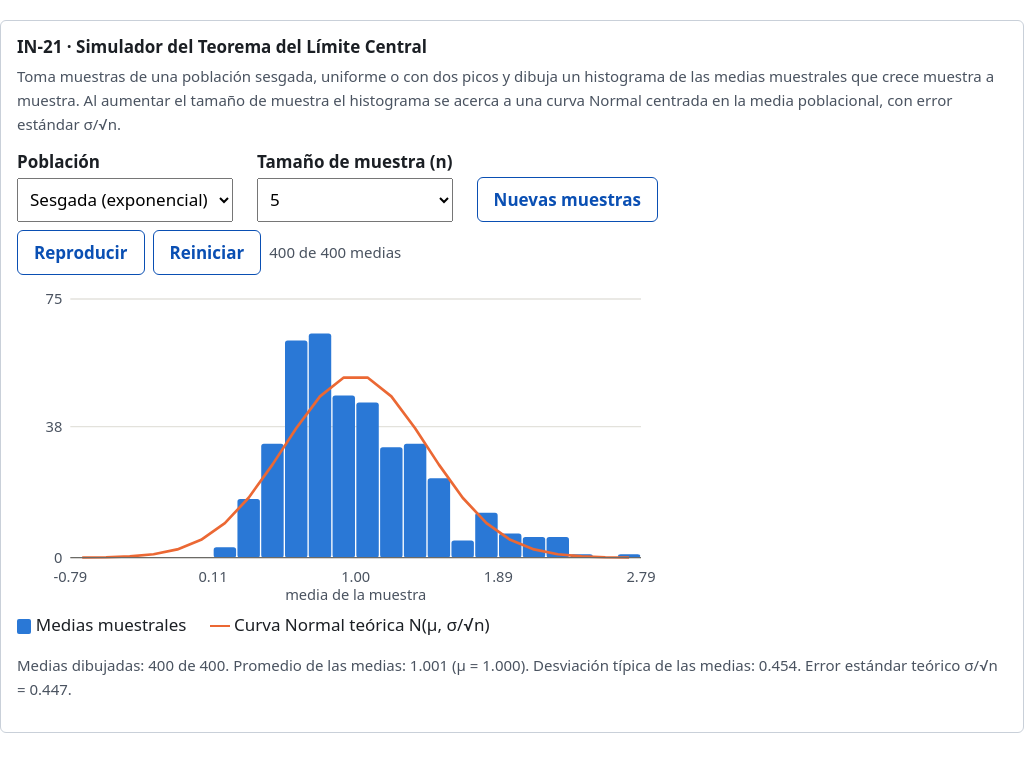
Scenario: IN-21 Teorema del Límite Central › reiniciar vacía el gráfico; reproducir lo va llenando de a 10 medias
The width and height of the screenshot is (1024, 768).
Click the button "Reiniciar" at (207, 252), box top-left (152, 230), bottom-right (261, 275)
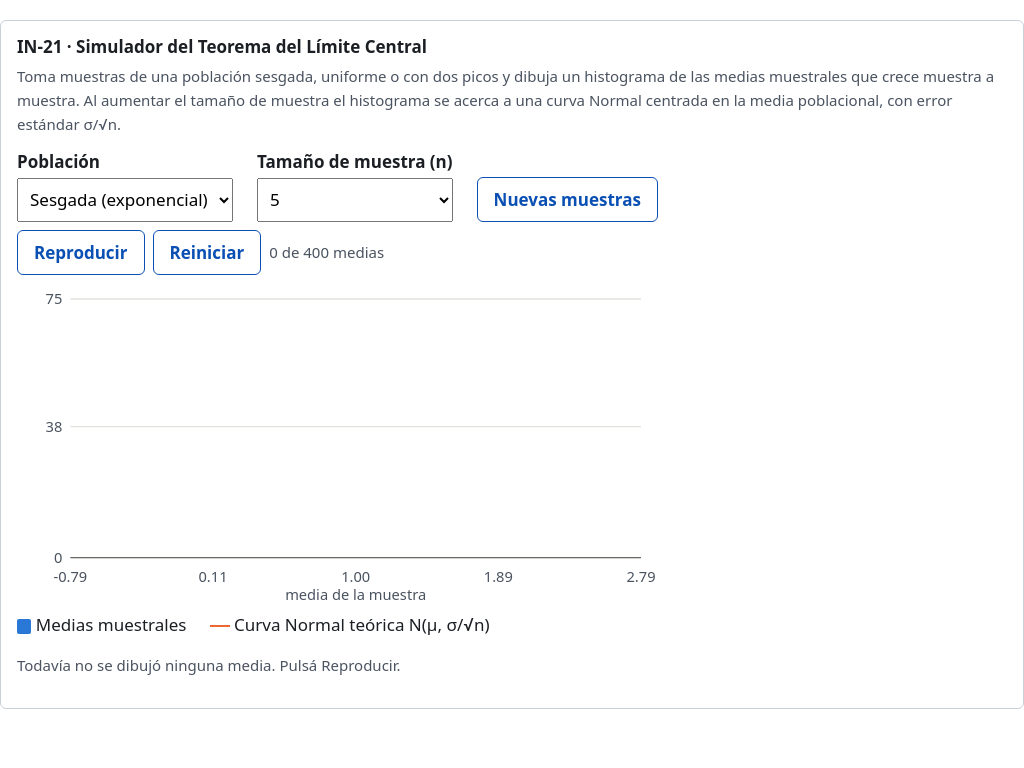
Result: the text with class "clt__summary" shows "Todavía no se dibujó ninguna media" at top-left (17, 655), bottom-right (400, 675)
Click the button "Reproducir" at (81, 252), box top-left (17, 230), bottom-right (144, 275)
Wait 450 ms
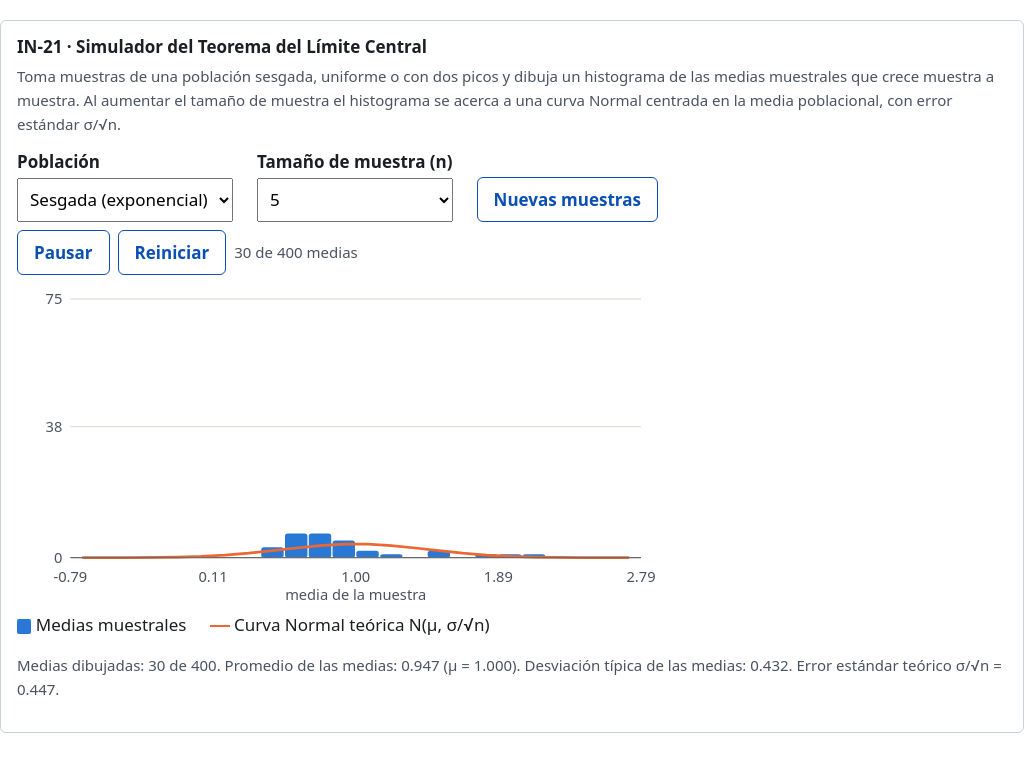
Result: the text with class "clt__summary" shows "Medias dibujadas: 30 de 400" at top-left (17, 655), bottom-right (1002, 699)
Click the button "Pausar" at (63, 252), box top-left (17, 230), bottom-right (110, 275)
Wait 1000 ms
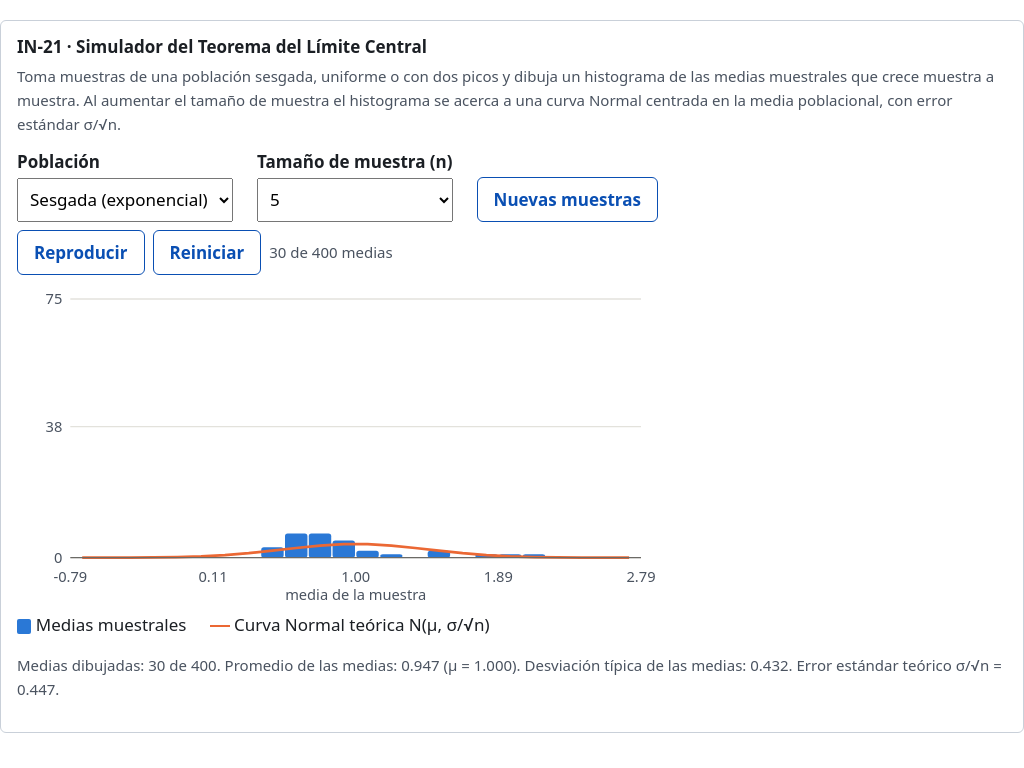
Result: the text with class "clt__summary" shows "Medias dibujadas: 30 de 400" at top-left (17, 655), bottom-right (1002, 699)
Click the button "Reproducir" at (81, 252), box top-left (17, 230), bottom-right (144, 275)
Wait 7500 ms
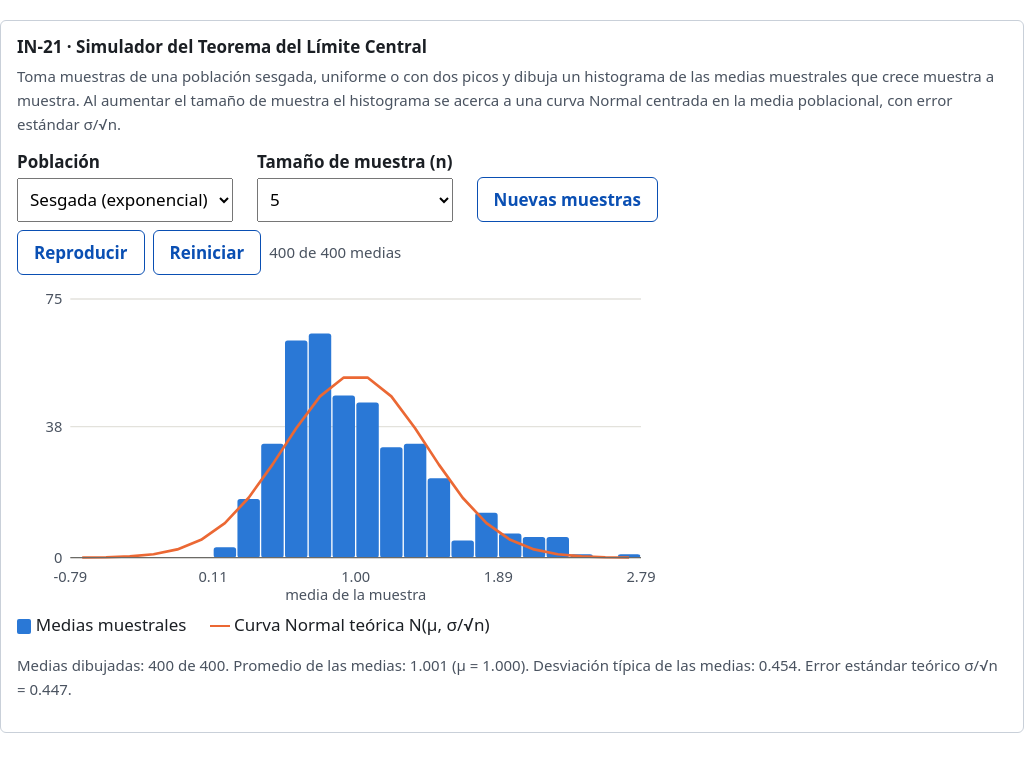
Result: the text with class "clt__summary" shows "Medias dibujadas: 400 de 400" at top-left (17, 655), bottom-right (998, 699)
